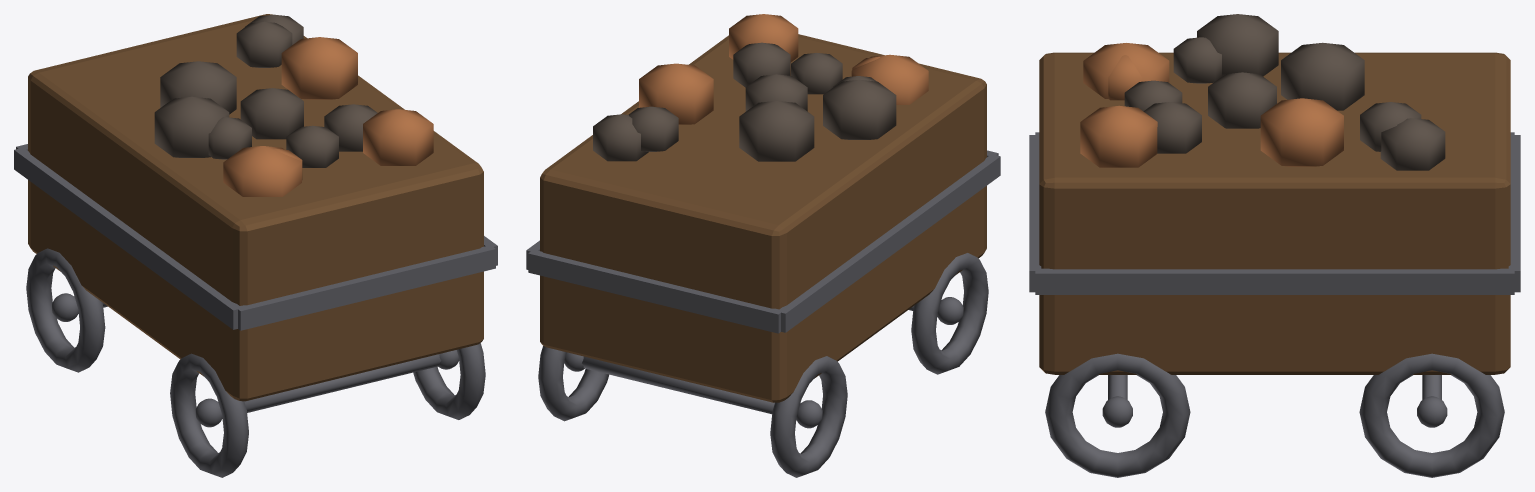
Rendered from lore.glb.
3 renders of one model, left to right at view 1: azimuth 30°, elevation 25°; view 2: azimuth 150°, elevation 25°; view 3: azimuth 270°, elevation 25°, orthographic. The views are drawn at different scales.
Parts seen in each view (by area): view 1: Cube; view 2: Cube; view 3: Cube.
Part boxes in pixels (left/top/right/bottom): Cube: left=14, top=14, right=497, bottom=477; Cube: left=526, top=14, right=1000, bottom=477; Cube: left=1029, top=14, right=1520, bottom=477.
Size of the model in its own units: 0.85 by 1 by 1.25.
